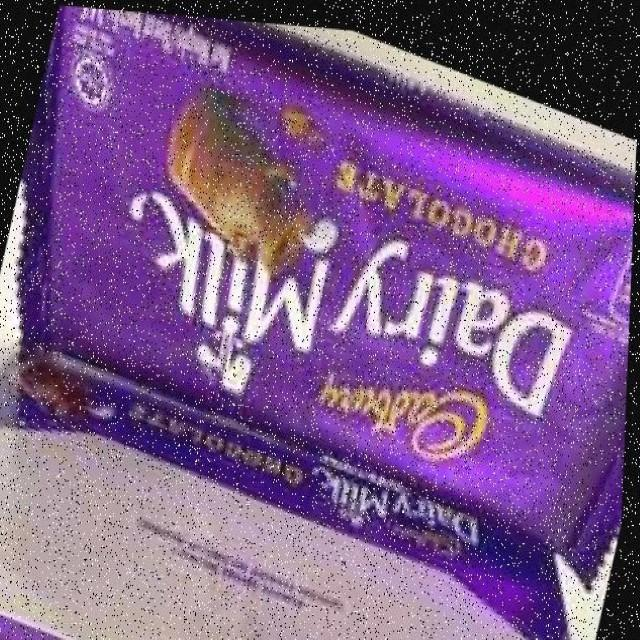cadbury_chocolate: (66, 11, 640, 580)
